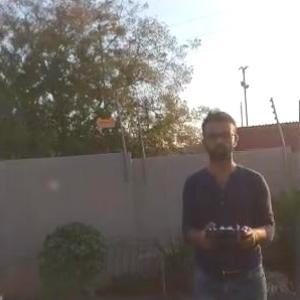follow: (174, 104, 278, 299)
